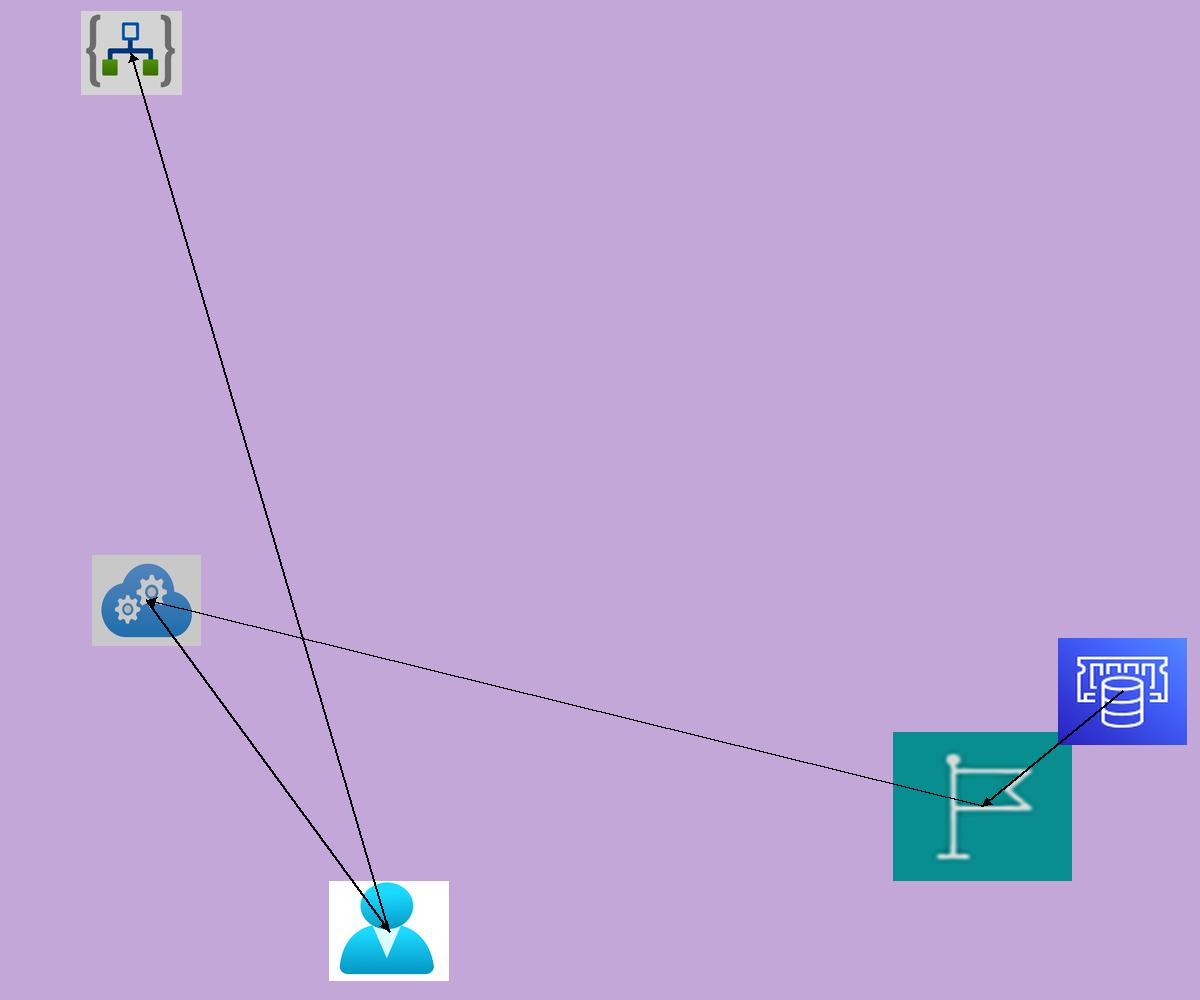AWS-ElastiCache: (1058, 638, 1187, 745)
AWS-Region: (893, 732, 1072, 881)
Azure_cloud_services: (92, 555, 201, 646)
Azure_integration-204-Logic-Apps: (81, 11, 182, 95)
Azure_users: (329, 881, 449, 981)
